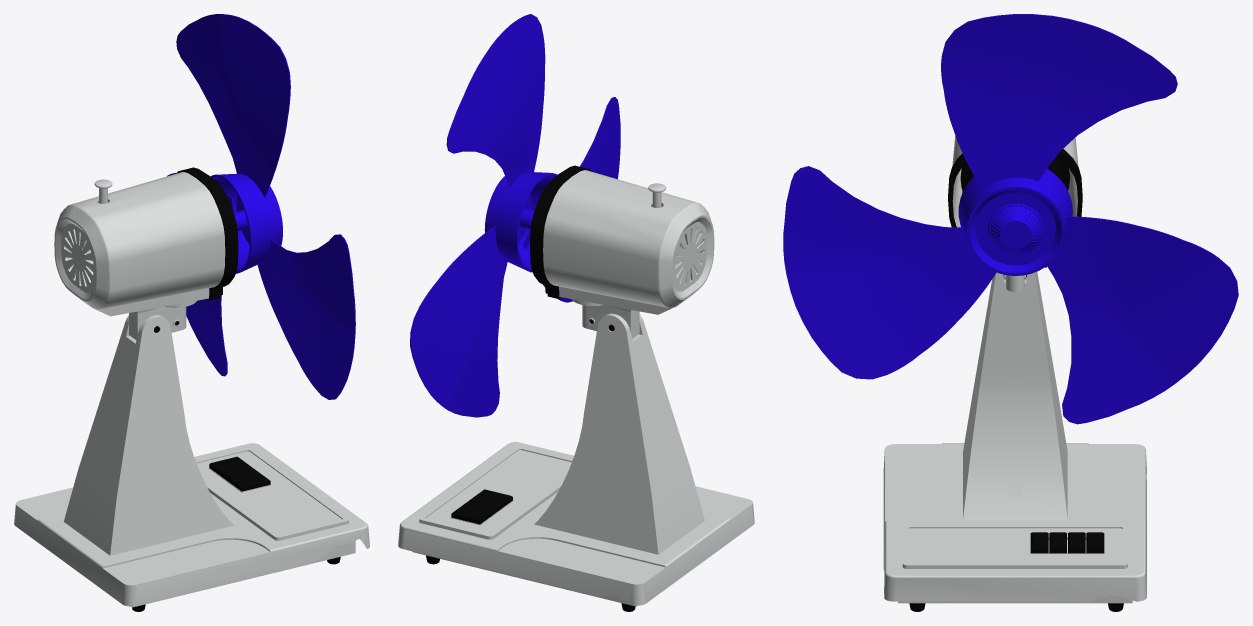
Rendered from fan.glb.
3 renders of one model, left to right at view 1: azimuth 30°, elevation 25°; view 2: azimuth 150°, elevation 25°; view 3: azimuth 270°, elevation 25°, orthographic. The views are drawn at different scales.
Visible parts, largest first — view 1: Old_fan.002, Old_fan.004; view 2: Old_fan.002, Old_fan.004; view 3: Old_fan.004, Old_fan.002.
Boxes of the visible parts, bbox=[...] form: Old_fan.002: bbox=[14, 167, 369, 611]; Old_fan.004: bbox=[167, 14, 355, 399]; Old_fan.002: bbox=[398, 165, 754, 611]; Old_fan.004: bbox=[410, 14, 620, 417]; Old_fan.004: bbox=[783, 14, 1238, 424]; Old_fan.002: bbox=[883, 136, 1146, 611].
Size of the model in its own units: 0.2488 by 0.4947 by 0.354.
